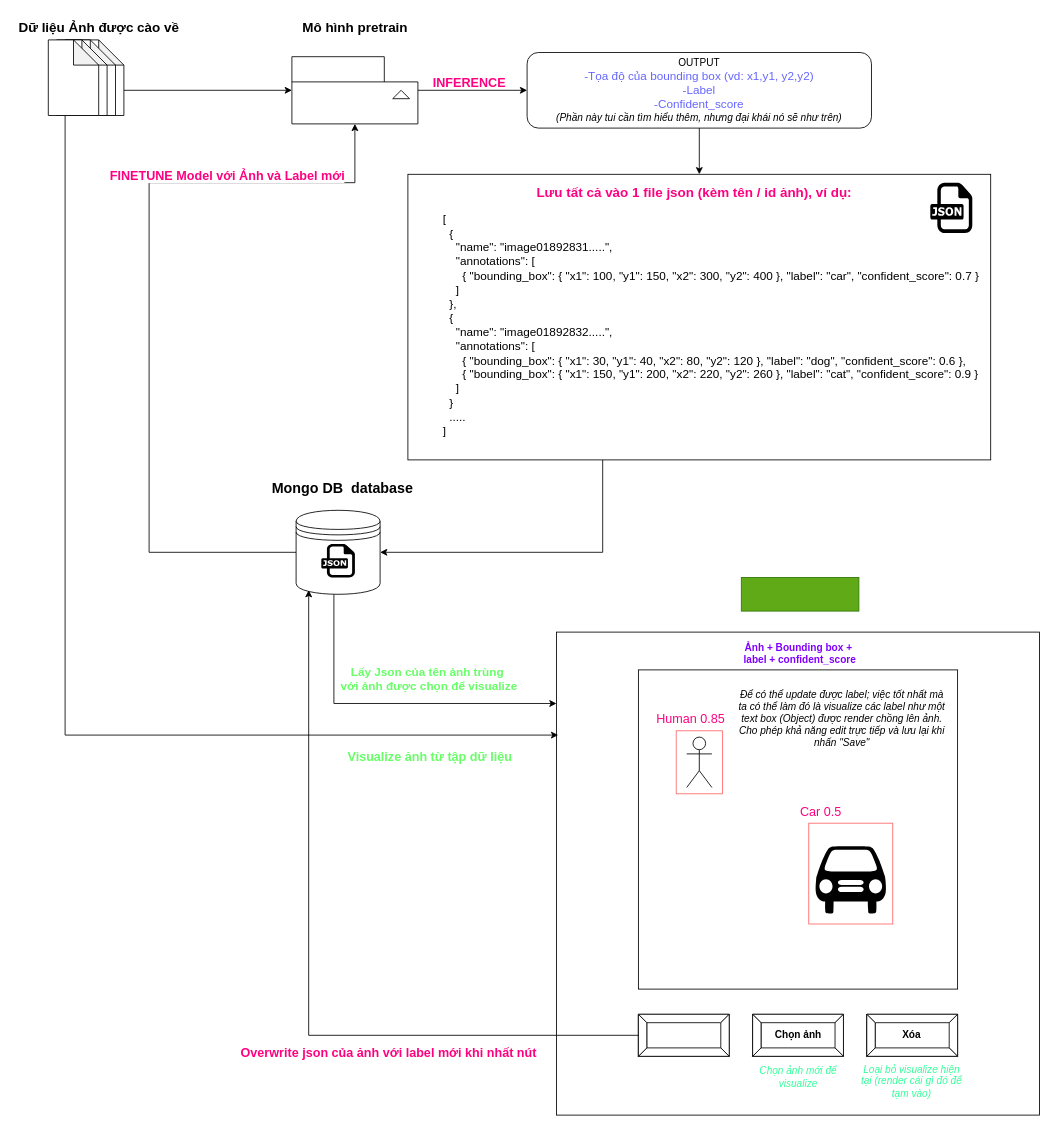
The diagram is 1054 pixels wide and 1130 high, and some of its shapes have lost their labels. Each missing label, with the centre of its shape:
"Update label" belongs at point 683,1034.
"WEB Interface" belongs at point 799,594.
"YOLOv11 Nano" belongs at point 354,90.
